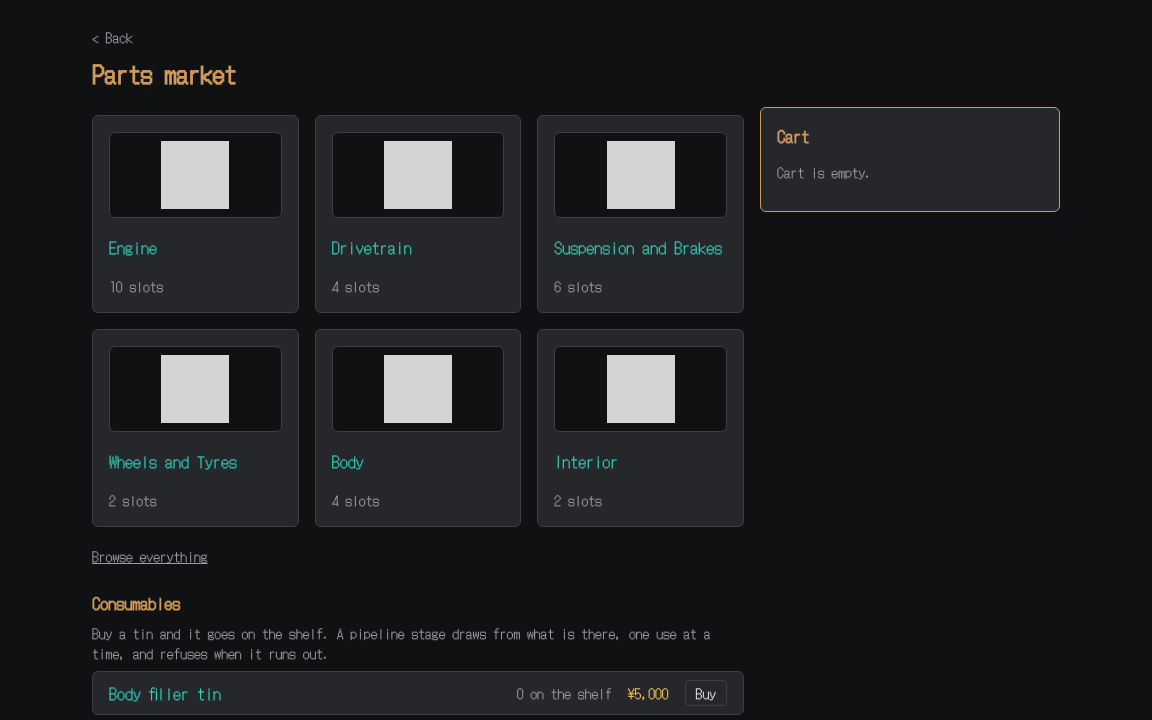
Test: PartsMarketScreen › "Browse everything" shows the full flat catalog, minus the delisted derived-part stock references
Click the button with test id "browse-everything": [150, 556] box [92,546,208,566]
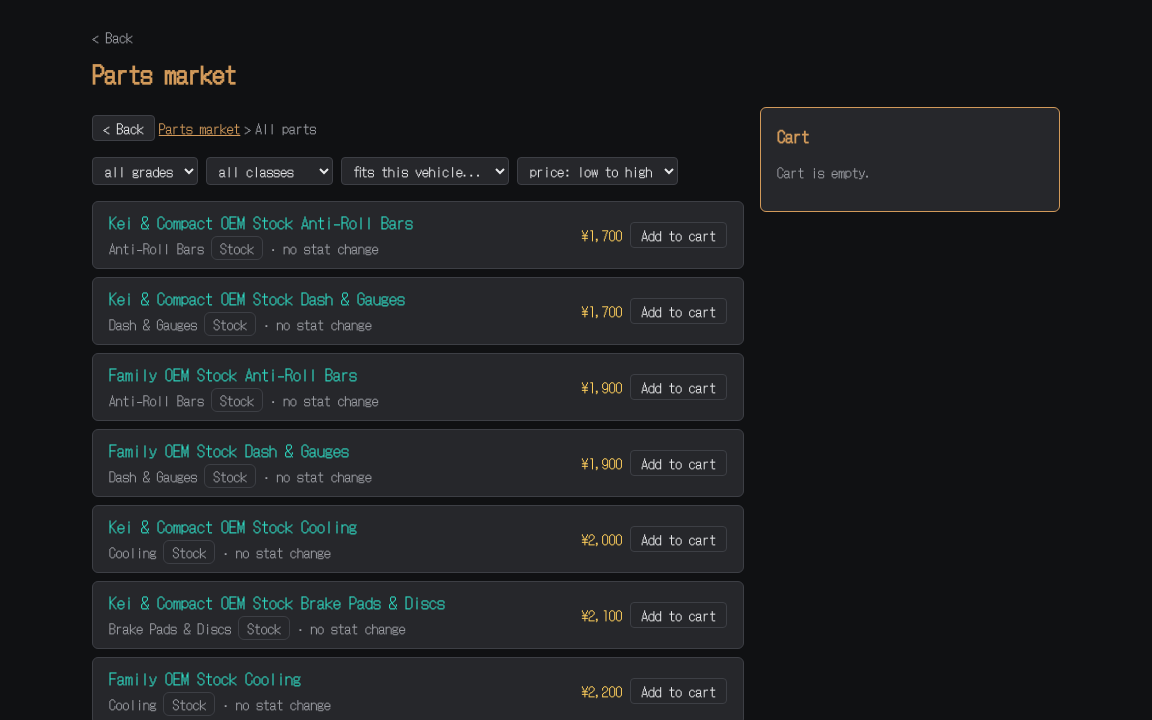
Result: the number of list items is 572
